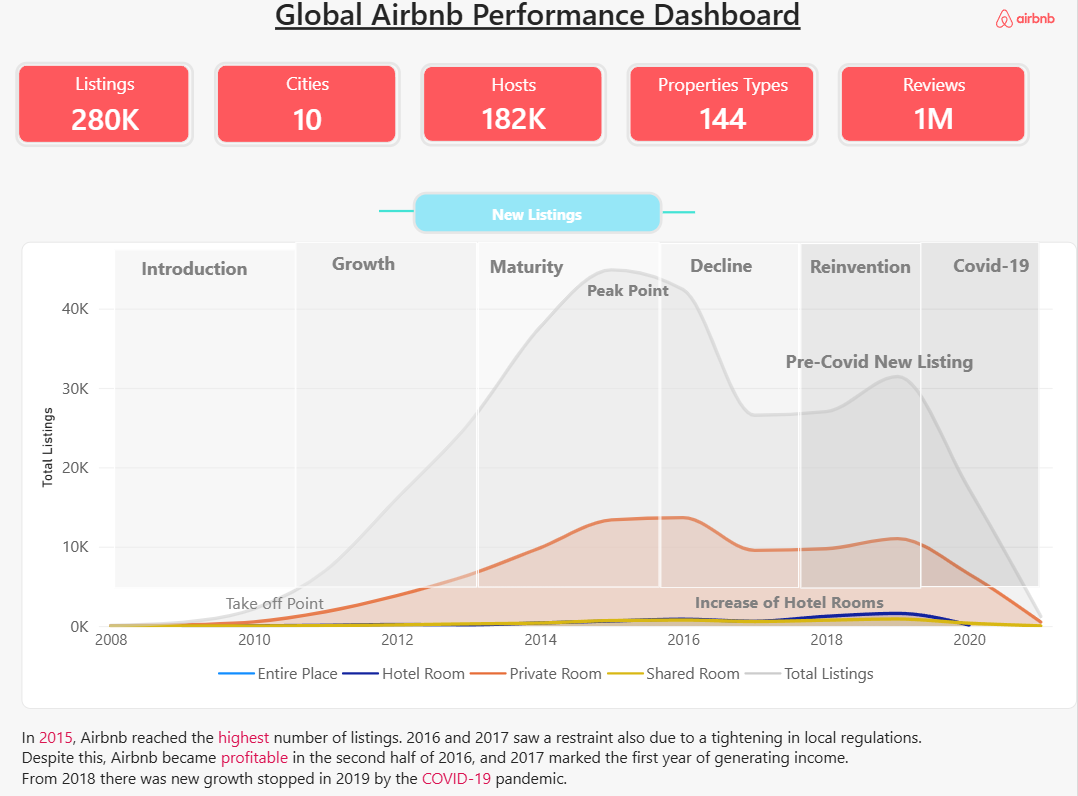

What the dashboard file says about the page in this screenshot:
{"tool":"powerbi","page":{"name":"Overview","canvas":[960,720],"ordinal":0},"visuals":[{"type":"textbox","box":[223.9,0,512.2,48.9],"z":0},{"type":"image","box":[866.7,0,93.3,45.6],"z":1000},{"type":"cardVisual","fields":{"Data":["CountNonNull(Listings.listing_id)"]},"box":[14.5,61.4,159.3,76],"z":2000},{"type":"cardVisual","fields":{"Data":["Count(Listings.city)"]},"box":[190.9,61.4,166.5,76],"z":3000},{"type":"cardVisual","fields":{"Data":["Count(Listings.host_id)"]},"box":[374.6,62,166.5,74.8],"z":4000},{"type":"cardVisual","fields":{"Data":["Count(Listings.property_type)"]},"box":[558.3,62,171.3,74.8],"z":5000},{"type":"cardVisual","fields":{"Data":["Reviews.Total Reviews"]},"box":[746.8,62,171.3,74.8],"z":6000},{"type":"lineChart","fields":{"Category":["Listings.host_since.Variation.Date Hierarchy.Year"],"Y":["Listings.Entire Room","Listings.Hotel Room","Listings.Private Room","Listings.Shared Room","CountNonNull(Listings.listing_id)"]},"box":[20,222,940,416],"z":7000},{"type":"textbox","box":[368.9,176.7,222.2,37.8],"z":8000},{"type":"shape","box":[338,174,31,41],"z":9000},{"type":"shape","box":[591,175,29,41],"z":10000},{"type":"shape","box":[102,228,162,302],"z":11000},{"type":"shape","box":[264,222,162,308],"z":12000},{"type":"shape","box":[426,222,162,308],"z":13000},{"type":"shape","box":[588.8,222.5,123.8,307.5],"z":14000},{"type":"shape","box":[820.4,222,106.2,307.6],"z":15000},{"type":"shape","box":[713.3,222.2,107.8,307.8],"z":16000},{"type":"textbox","box":[116.4,226.9,114,35],"z":17000},{"type":"textbox","box":[267.4,222.9,115,43],"z":18000},{"type":"textbox","box":[506.7,246.7,107,30],"z":19000},{"type":"textbox","box":[419.4,231.9,100,25],"z":20000},{"type":"textbox","box":[591.2,228.8,104,29],"z":21000},{"type":"textbox","box":[717.8,227.8,98,30],"z":22000},{"type":"textbox","box":[832.4,230.9,102,27],"z":23000},{"type":"textbox","box":[684.4,313.3,199,28],"z":24000},{"type":"textbox","box":[613.8,531.2,181,26],"z":25000},{"type":"textbox","box":[183.4,529.6,124,28],"z":26000},{"type":"textbox","box":[20,652.2,940,67.8],"z":27000}]}

Visuals, with their boxes in screenshot pixels (x1, y1, x2, y2), scaled from the page's 960x720 canvas onto the 1078x796 screenshot:
textbox: detection(251, 0, 827, 54)
image: detection(973, 0, 1077, 50)
cardVisual - CountNonNull(Listings.listing_id): detection(16, 68, 195, 152)
cardVisual - Count(Listings.city): detection(214, 68, 401, 152)
cardVisual - Count(Listings.host_id): detection(421, 69, 608, 151)
cardVisual - Count(Listings.property_type): detection(627, 69, 819, 151)
cardVisual - Reviews.Total Reviews: detection(839, 69, 1031, 151)
lineChart - Listings.host_since.Variation.Date Hierarchy.Year x Listings.Entire Room: detection(22, 245, 1077, 705)
textbox: detection(414, 195, 664, 237)
shape: detection(380, 192, 414, 238)
shape: detection(664, 193, 696, 239)
shape: detection(115, 252, 296, 586)
shape: detection(296, 245, 478, 586)
shape: detection(478, 245, 660, 586)
shape: detection(661, 246, 800, 586)
shape: detection(921, 245, 1040, 586)
shape: detection(801, 246, 922, 586)
textbox: detection(131, 251, 259, 290)
textbox: detection(300, 246, 429, 294)
textbox: detection(569, 273, 689, 306)
textbox: detection(471, 256, 583, 284)
textbox: detection(664, 253, 781, 285)
textbox: detection(806, 252, 916, 285)
textbox: detection(935, 255, 1049, 285)
textbox: detection(769, 346, 992, 377)
textbox: detection(689, 587, 892, 616)
textbox: detection(206, 586, 345, 616)
textbox: detection(22, 721, 1077, 795)
